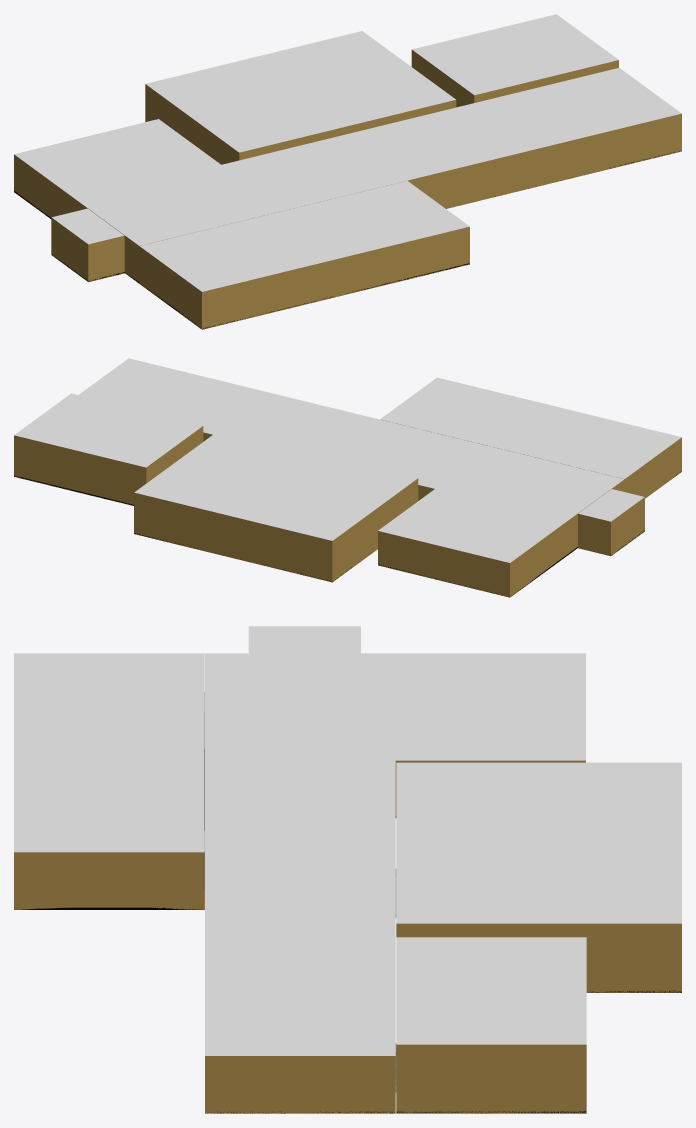
File: location.fbx
3 renders of one model, top to bottom at view 1: azimuth 30°, elevation 25°; view 2: azimuth 150°, elevation 25°; view 3: azimuth 270°, elevation 25°, orthographic. The views are drawn at different scales.
Visible parts, largest first — view 1: Ceiling.001, Ceiling.002, Ceiling.004, kitchen, Hall, Ceiling.003, Boss_Room, Start, Sport_Room, Ceiling; view 2: Ceiling.001, Ceiling.002, Ceiling.004, Boss_Room, Ceiling.003, Hall, Sport_Room, Start, kitchen, Ceiling; view 3: Ceiling.001, Ceiling.002, Ceiling.004, Ceiling.003, Sport_Room, Hall, kitchen, Boss_Room, Ceiling.
Boxes of the visible parts, box(x1,y1,x2,y2) form: Ceiling.001: box(14, 68, 681, 245); Ceiling.002: box(146, 31, 455, 152); Ceiling.004: box(140, 180, 469, 291); kitchen: box(139, 226, 469, 329); Hall: box(14, 113, 681, 283); Ceiling.003: box(412, 14, 618, 95); Boss_Room: box(145, 84, 456, 164); Start: box(51, 217, 124, 282); Sport_Room: box(411, 50, 618, 107); Ceiling: box(52, 208, 123, 244); Ceiling.001: box(78, 358, 623, 562); Ceiling.002: box(134, 430, 417, 540); Ceiling.004: box(380, 377, 681, 478); Boss_Room: box(134, 478, 418, 582); Ceiling.003: box(14, 393, 202, 467); Hall: box(203, 432, 624, 597); Sport_Room: box(14, 426, 203, 505); Start: box(578, 497, 644, 556); kitchen: box(381, 419, 681, 498); Ceiling: box(578, 489, 644, 521); Ceiling.001: box(205, 653, 585, 1055); Ceiling.002: box(396, 762, 681, 923); Ceiling.004: box(14, 653, 204, 852); Ceiling.003: box(396, 937, 586, 1044); Sport_Room: box(396, 1044, 586, 1113); Hall: box(205, 760, 585, 1113); kitchen: box(14, 852, 204, 909); Boss_Room: box(396, 923, 681, 992); Ceiling: box(248, 626, 360, 653).
Bounding box in the file's own units: 4323 × 333 × 2840.
